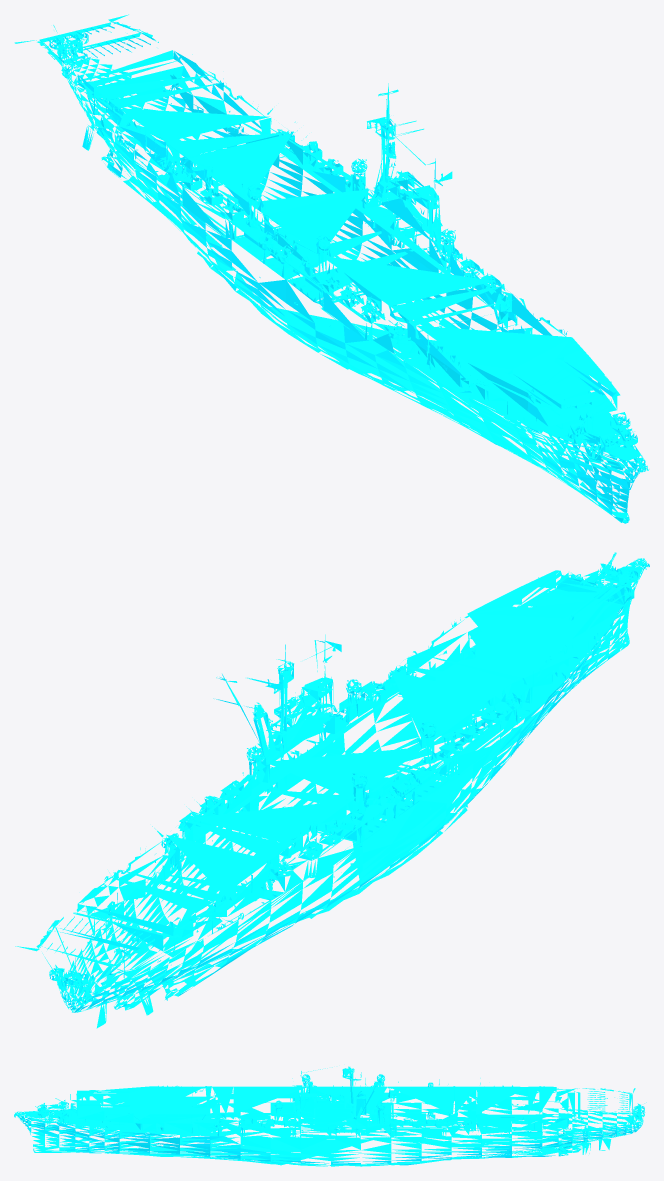
The model's file is PGSA510.glb.
3 renders of one model, top to bottom at view 1: azimuth 30°, elevation 25°; view 2: azimuth 150°, elevation 25°; view 3: azimuth 270°, elevation 25°, orthographic. The views are drawn at different scales.
Parts seen in each view (by area): view 1: hull, turret; view 2: hull, turret; view 3: hull, turret.
Boxes of the visible parts, left/top/right/bottom form: hull: left=14, top=14, right=649, bottom=523; turret: left=53, top=25, right=634, bottom=446; hull: left=15, top=558, right=649, bottom=1028; turret: left=53, top=552, right=634, bottom=982; hull: left=14, top=1066, right=645, bottom=1166; turret: left=35, top=1088, right=646, bottom=1127.
Bounding box in the file's own units: 3.19 × 3.52 × 18.7.
